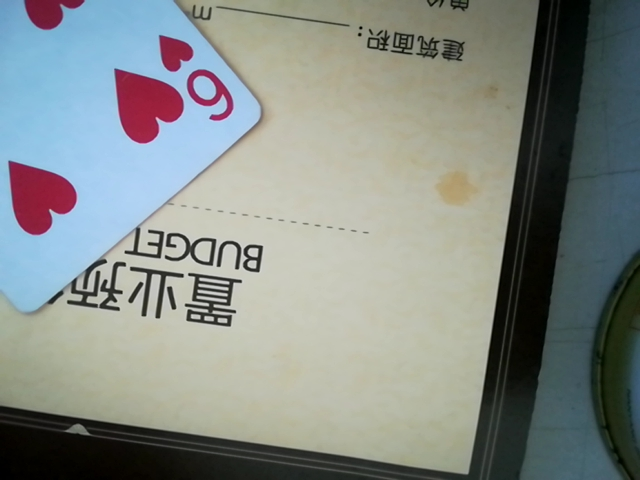hx 6: (0, 0, 265, 307)
